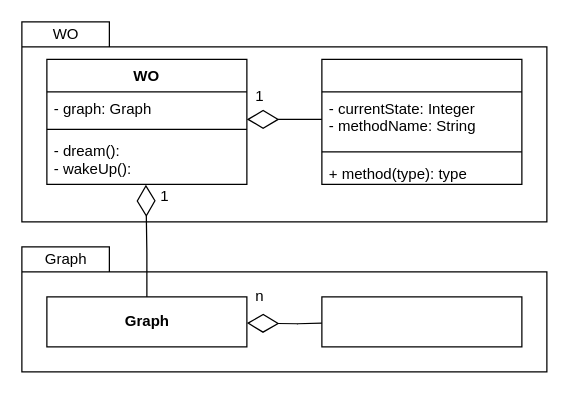
This 569x394 diagram has some shape labels left out. The box of each missing label's shape, as (x1, y1, x2, y2) in pixels:
Node: (321, 296, 522, 347)
RunningAction: (321, 58, 522, 184)
